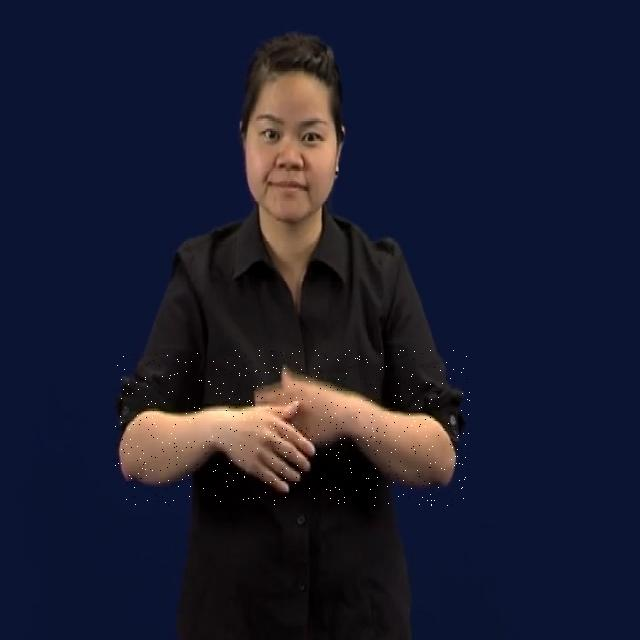bread: (115, 350, 470, 506)
